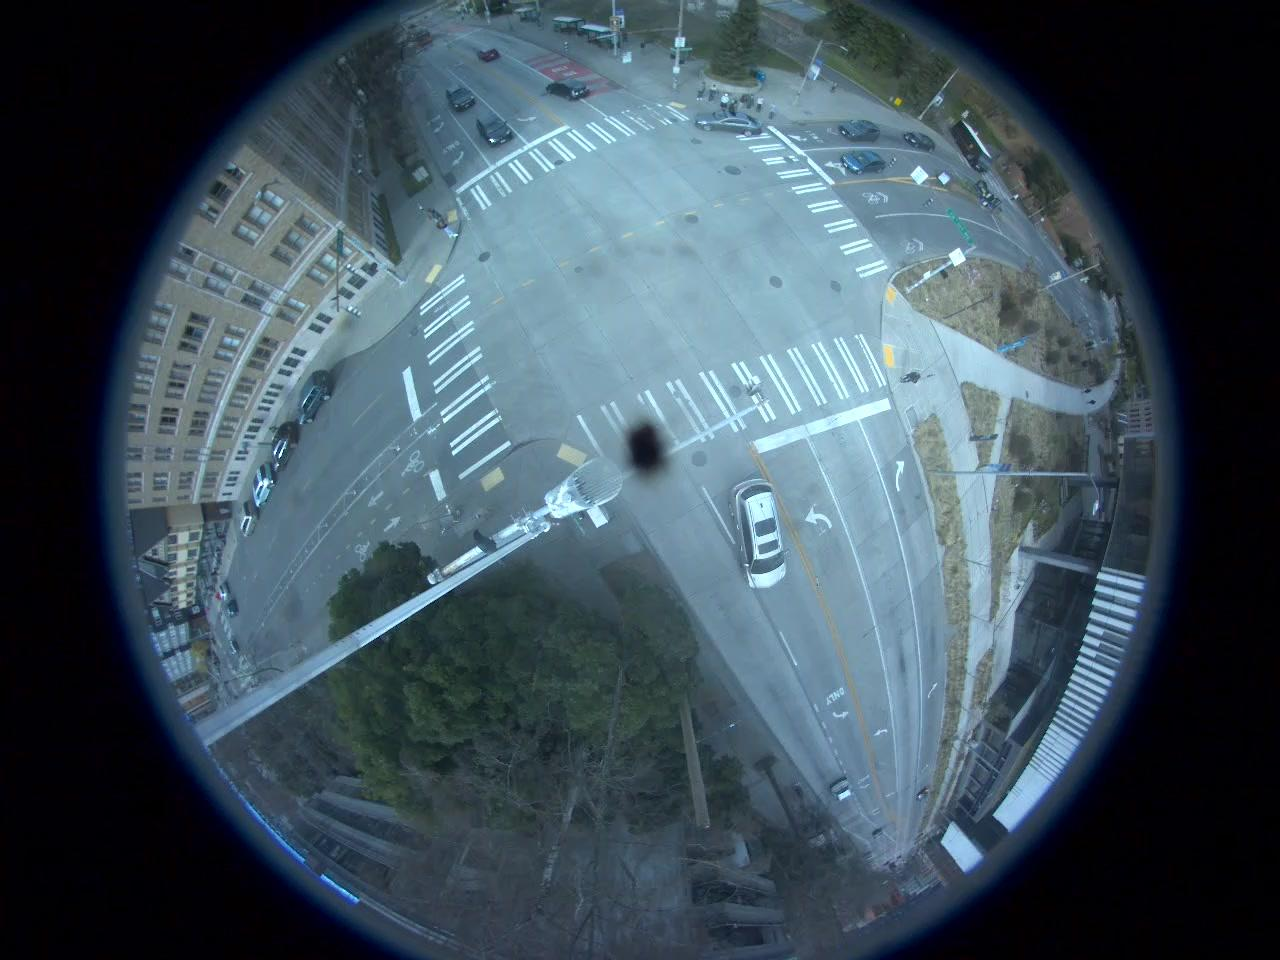car: (733, 480, 788, 589), (298, 368, 330, 424), (696, 110, 766, 134), (272, 422, 298, 470), (441, 81, 479, 113), (478, 114, 512, 146), (840, 150, 884, 174), (840, 119, 884, 142), (550, 77, 592, 101), (252, 461, 272, 507), (905, 129, 936, 152), (240, 499, 256, 535), (478, 46, 504, 62)
person: (898, 368, 926, 385), (435, 219, 456, 238), (708, 76, 720, 104), (695, 78, 707, 101), (428, 207, 446, 222), (720, 88, 730, 114), (730, 94, 740, 114), (757, 92, 767, 110), (748, 90, 757, 107), (744, 90, 750, 108)
truck: (952, 122, 992, 172)
